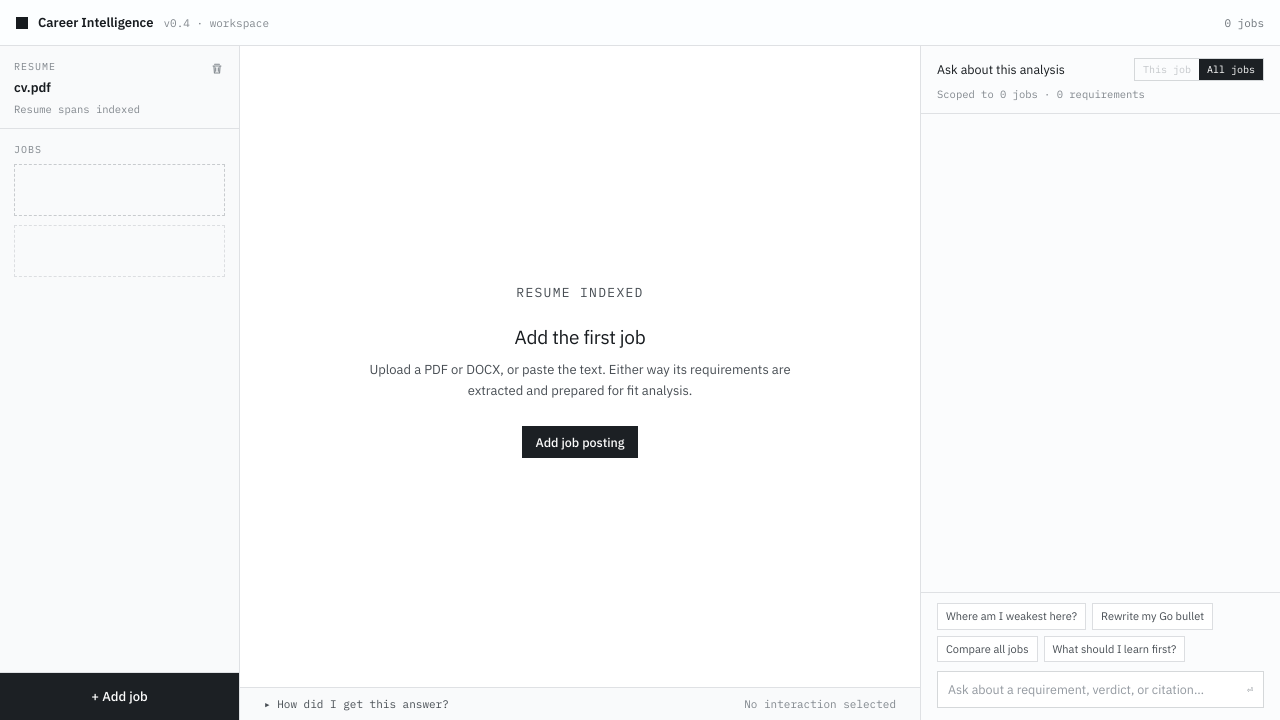
Test: adding a job › keeps the dialog open and reports a rejection inside it
Step 1. Click the button "+ Add job" → point(120, 696), box [0,672,239,719]
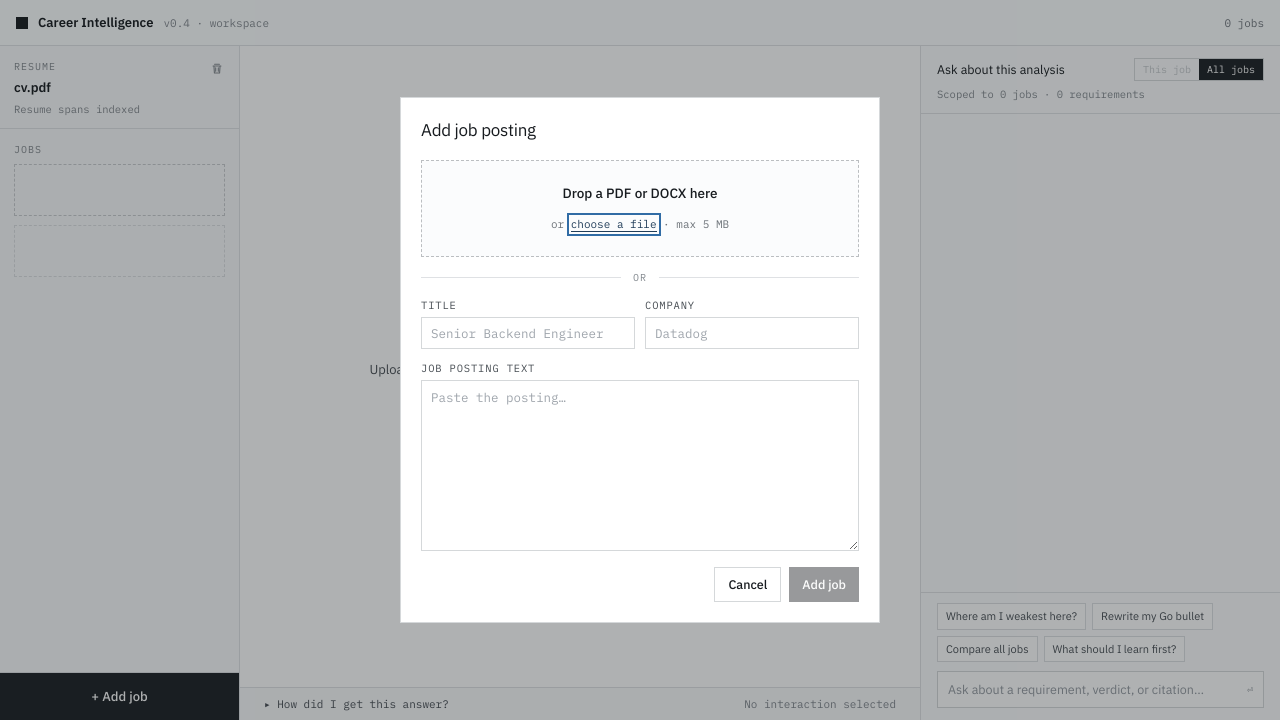
Step 2. Type "far too much text" into the text box labelled "Job posting text" → point(640, 466), box [421,380,859,551]
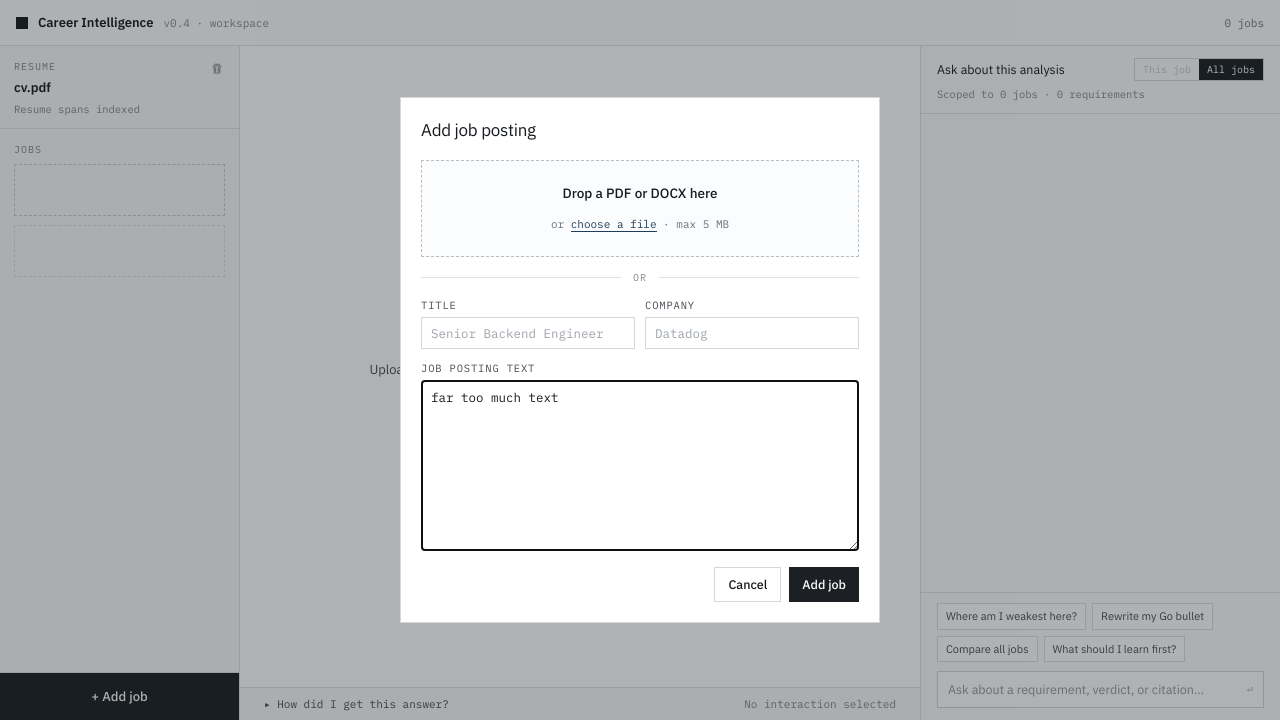
Step 3. Click the button "Add job" → point(824, 584), box [789,567,859,602]
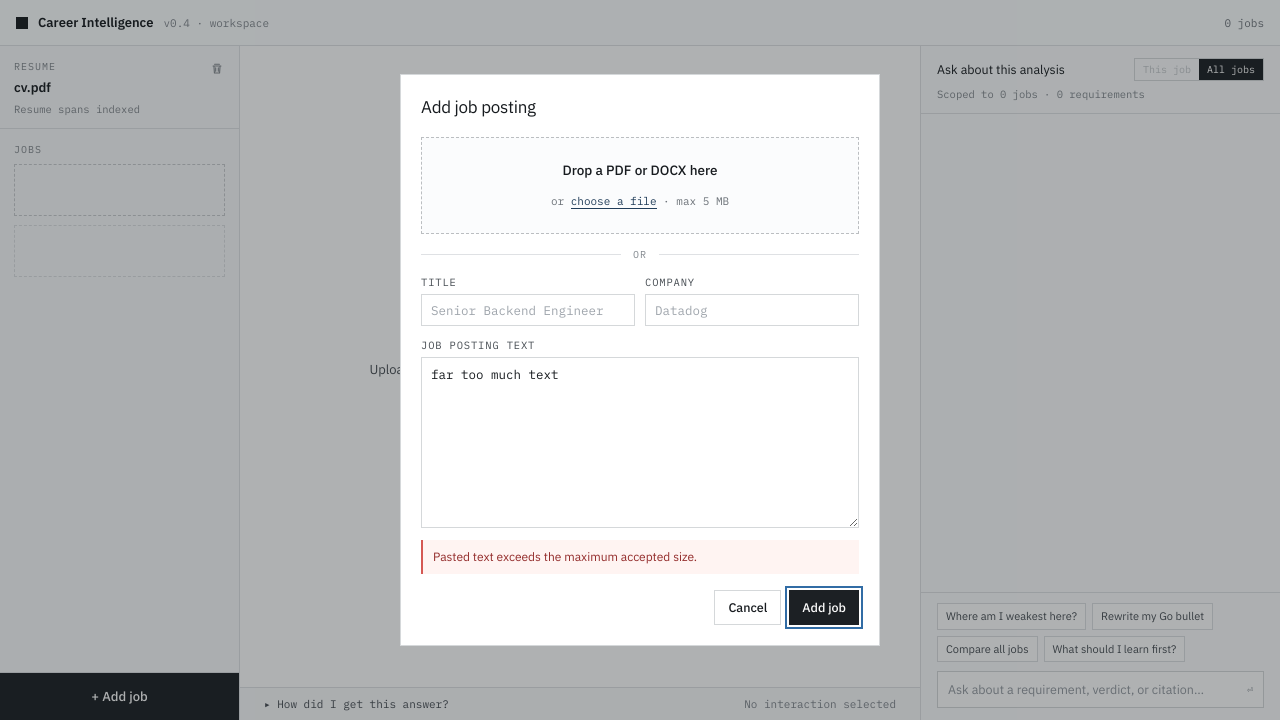
Result: the message shows "exceeds the maximum" at [433,549,697,564]
